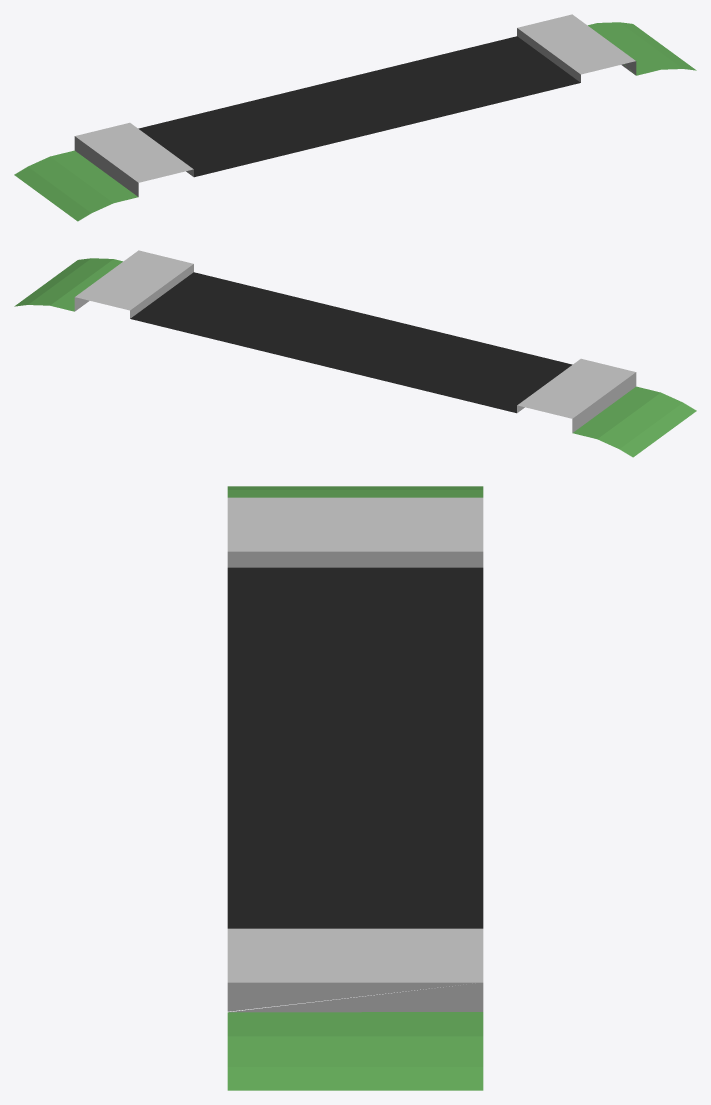
File: StreetProfile.glb
The picture shows the model from 3 angles, top to bottom: view 1: azimuth 30°, elevation 25°; view 2: azimuth 150°, elevation 25°; view 3: azimuth 270°, elevation 25°; orthographic projection. The views are drawn at different scales.
Parts seen in each view (by area): view 1: Plane; view 2: Plane; view 3: Plane.
Part boxes in pixels (x1,y1,x2,y2): Plane: [14, 14, 696, 221]; Plane: [14, 250, 696, 457]; Plane: [227, 486, 483, 1090].
Bounding box in the file's own units: 11.2 × 0.4216 × 2.
